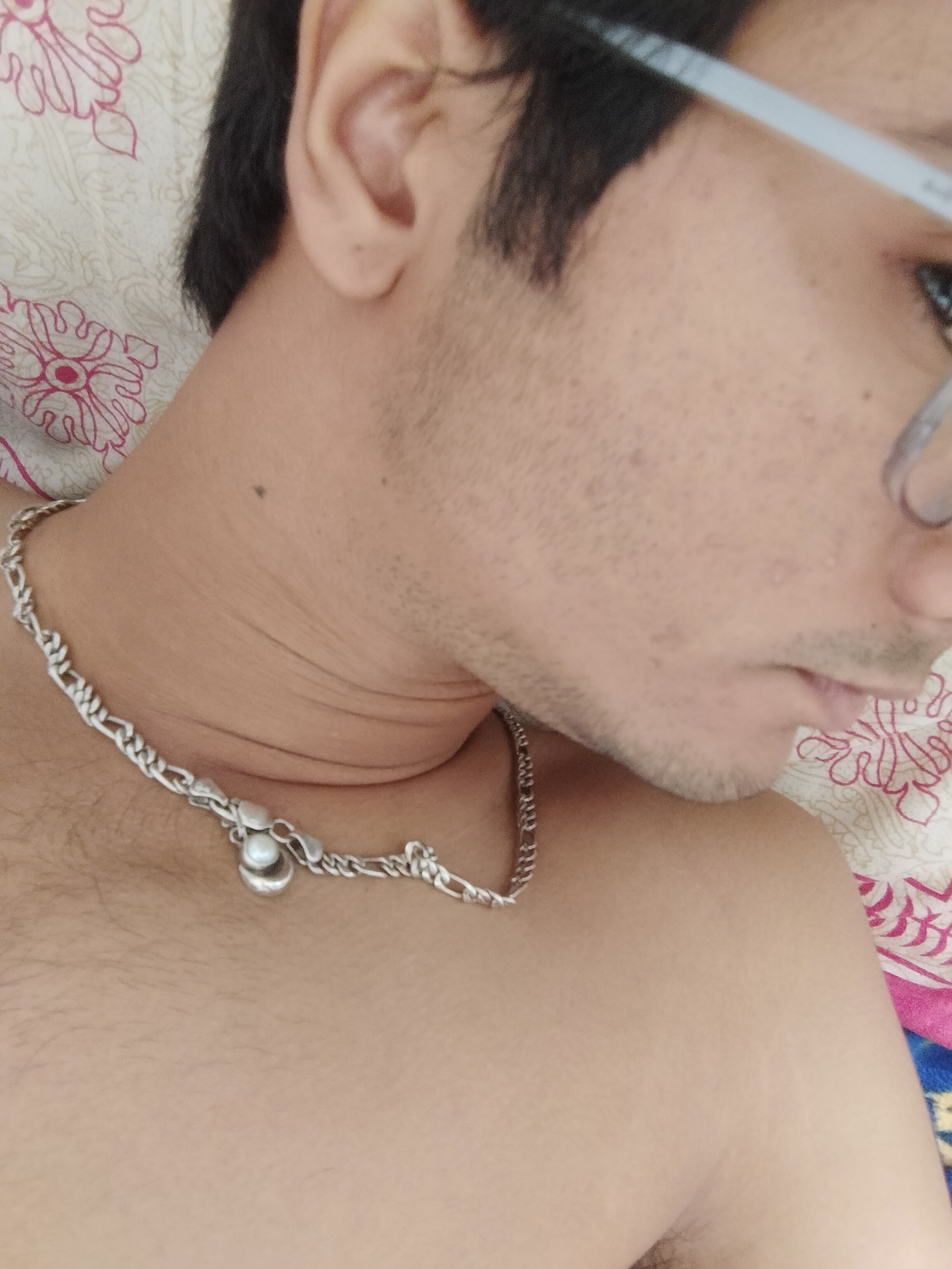papule: (801, 410, 813, 422)
